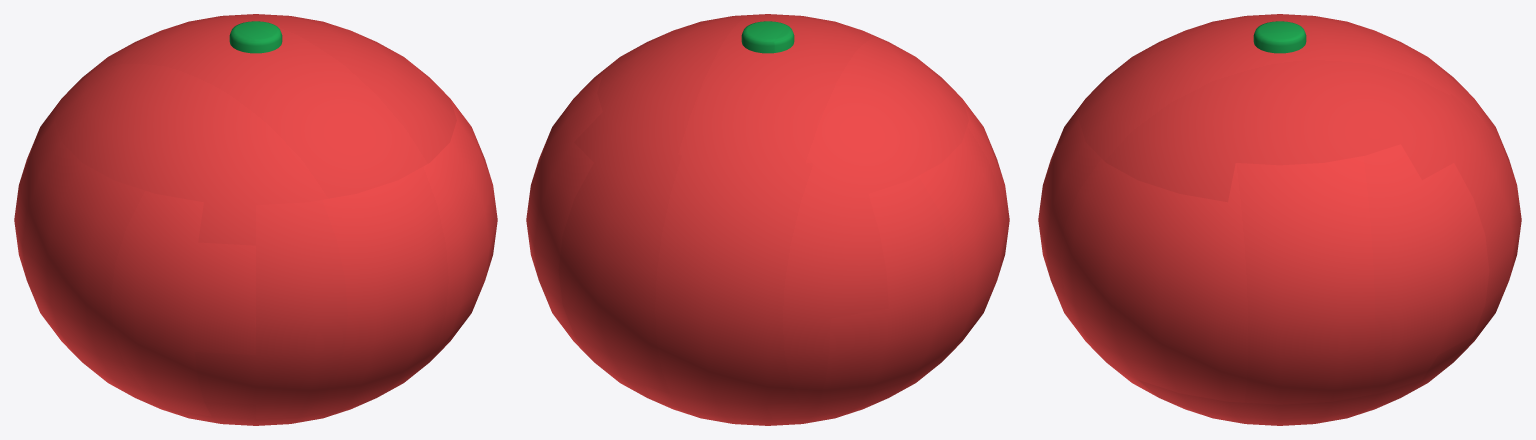
The model's file is tomato.glb.
The picture shows the model from 3 angles, left to right: view 1: azimuth 30°, elevation 25°; view 2: azimuth 150°, elevation 25°; view 3: azimuth 270°, elevation 25°; orthographic projection.
Parts seen in each view (by area): view 1: TomatoBody, TomatoStemCore; view 2: TomatoBody, TomatoStemCore; view 3: TomatoBody, TomatoStemCore.
Boxes of the visible parts, bbox=[...] form: TomatoBody: bbox=[14, 14, 497, 425]; TomatoStemCore: bbox=[229, 21, 282, 53]; TomatoBody: bbox=[526, 14, 1009, 425]; TomatoStemCore: bbox=[741, 21, 794, 53]; TomatoBody: bbox=[1038, 14, 1521, 425]; TomatoStemCore: bbox=[1253, 21, 1306, 53].
Size of the model in its own units: 0.462 by 0.3892 by 0.462.
Materials: 2 (2 with a texture image).
